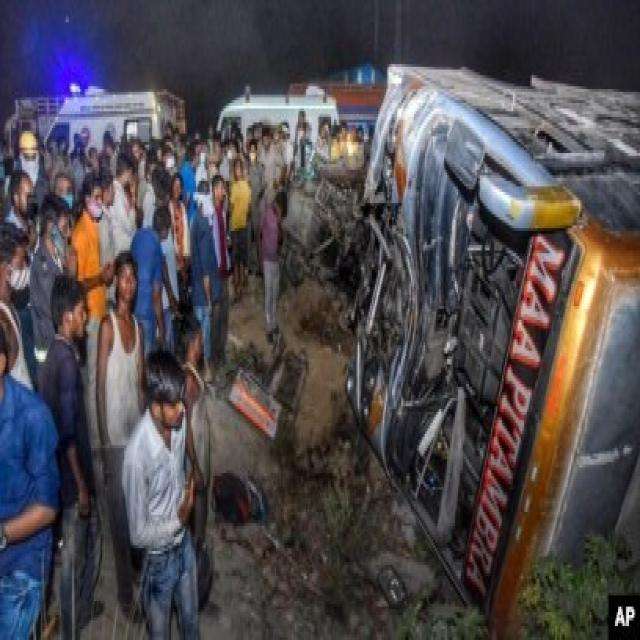accident: (346, 67, 640, 636), (282, 124, 366, 298)
emergency: (46, 91, 185, 150)
